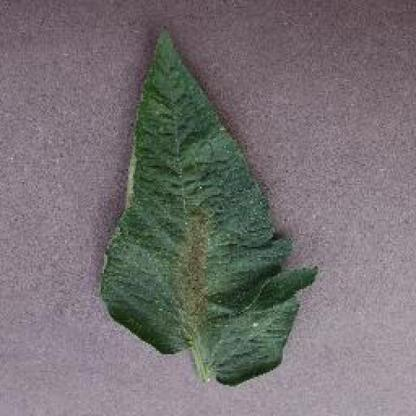Tomato_Spider_Mites: (100, 25, 318, 383)
